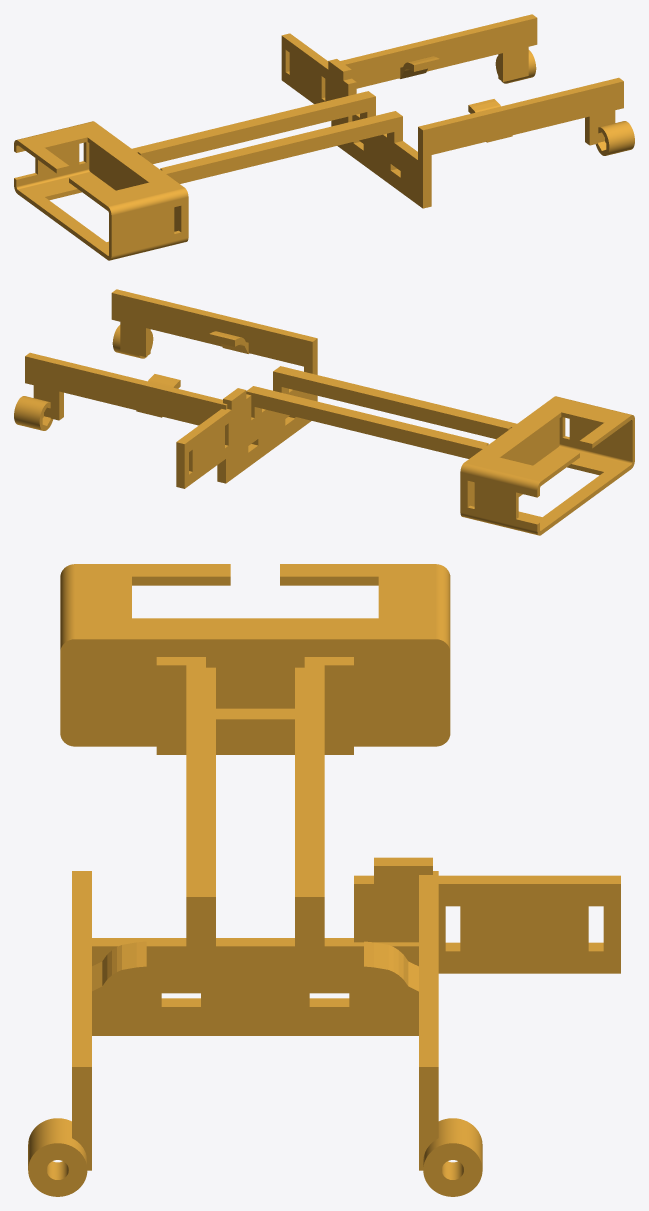
File: saddle.glb
3 renders of one model, top to bottom at view 1: azimuth 30°, elevation 25°; view 2: azimuth 150°, elevation 25°; view 3: azimuth 270°, elevation 25°, orthographic. The views are drawn at different scales.
Visible parts, largest first — view 1: saddle; view 2: saddle; view 3: saddle.
Boxes of the visible parts, left/top/right/bottom form: saddle: left=14, top=14, right=634, bottom=260; saddle: left=14, top=289, right=634, bottom=535; saddle: left=28, top=564, right=620, bottom=1196.
Size of the model in its own units: 0.241 by 0.037 by 0.12.
